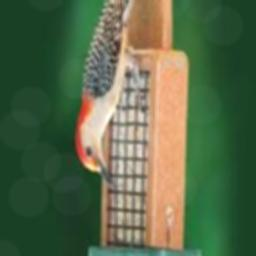Woodpecker: (75, 0, 157, 190)
